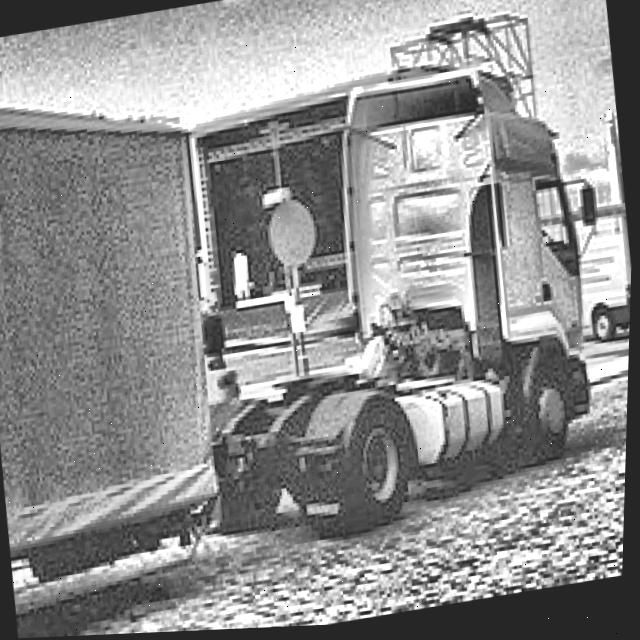light_vehicle: (569, 211, 635, 352)
